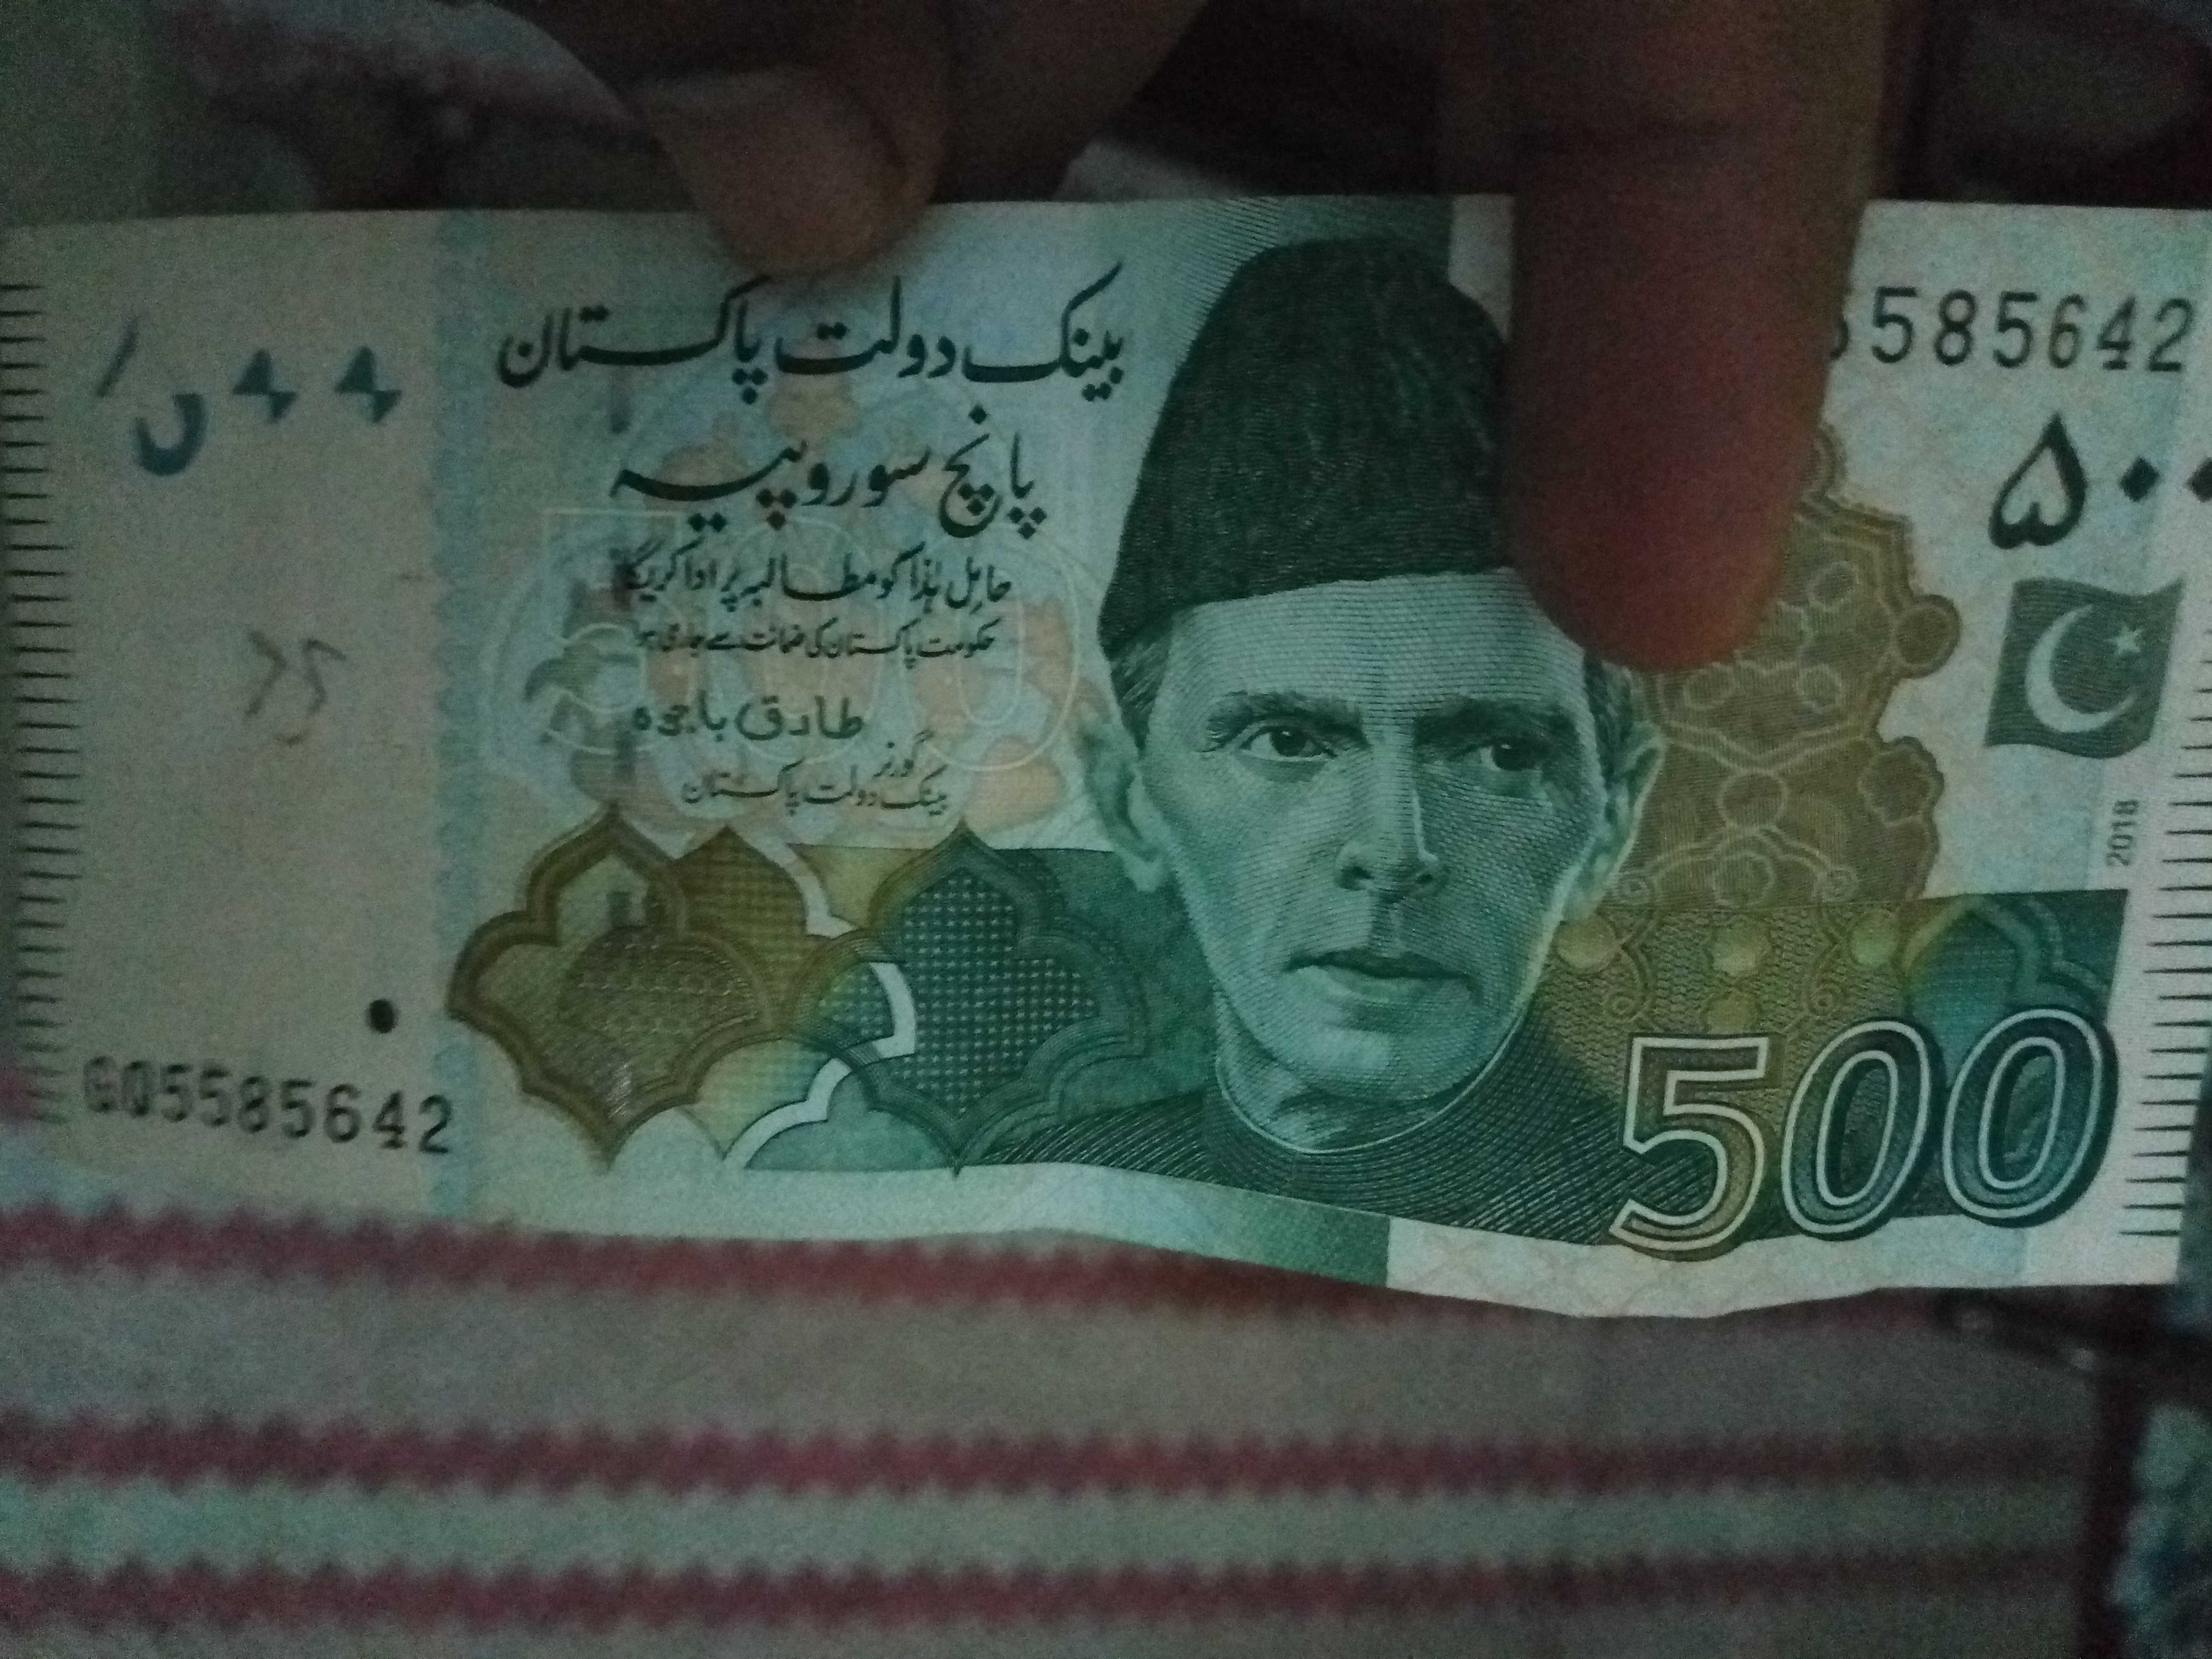500 rupee: (23, 200, 2193, 1338)
